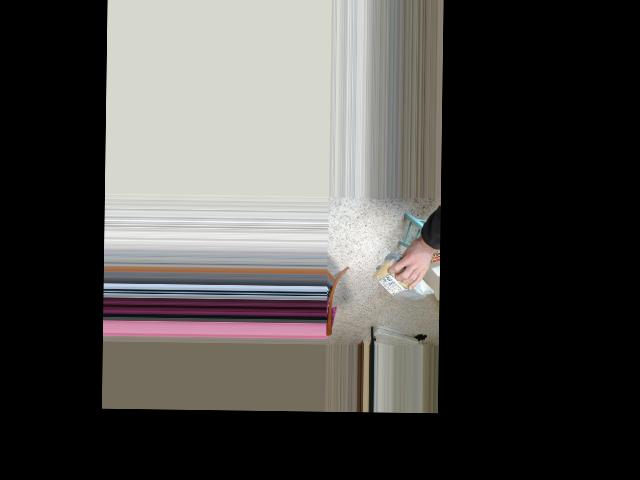cheese: (374, 263, 435, 297)
